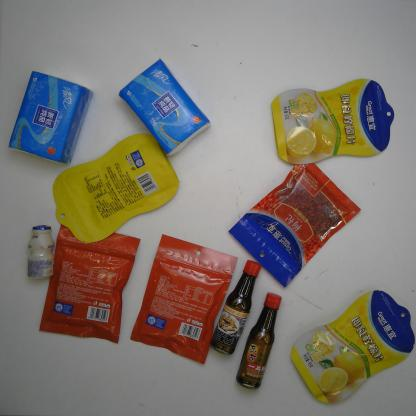Dried Fruit: (227, 162, 363, 290), (129, 233, 239, 366), (52, 132, 182, 244), (290, 289, 415, 404), (38, 223, 142, 346), (270, 78, 397, 166)
Milk: (26, 223, 55, 280)
Seasoner: (210, 259, 262, 356), (234, 291, 282, 391)
Tissue: (118, 57, 212, 158), (6, 70, 95, 166)
